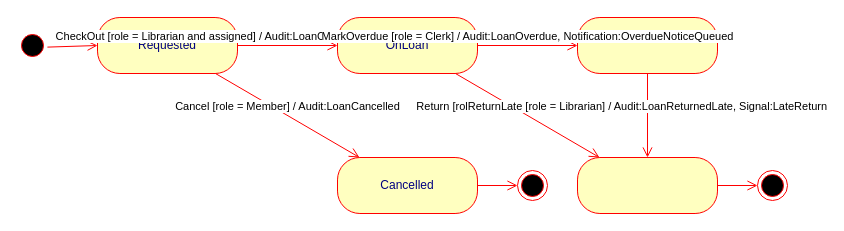
This 844x231 diagram has some shape labels left out. Here are the shapes that lost their labels. From the top down, the centre of each, then its label:
At pixel 647 45: "Overdue".
At pixel 647 185: "Returned".
